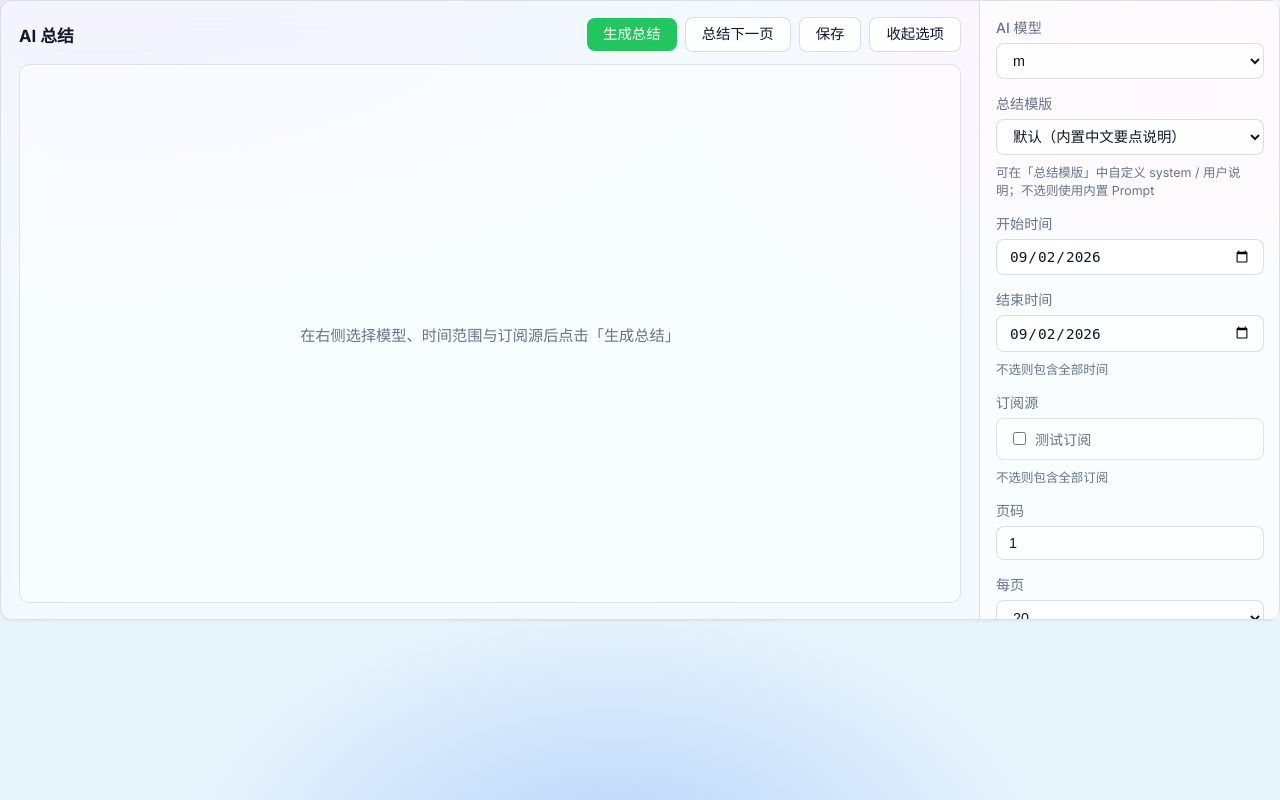
点击“总结下一页”会把页码 +1 并用新页码生成总结
Note: 等待“总结下一页”按钮出现（ai-summary tab 已激活）
Click the button "总结下一页". click: (738, 35)
box: [685,17,791,52]
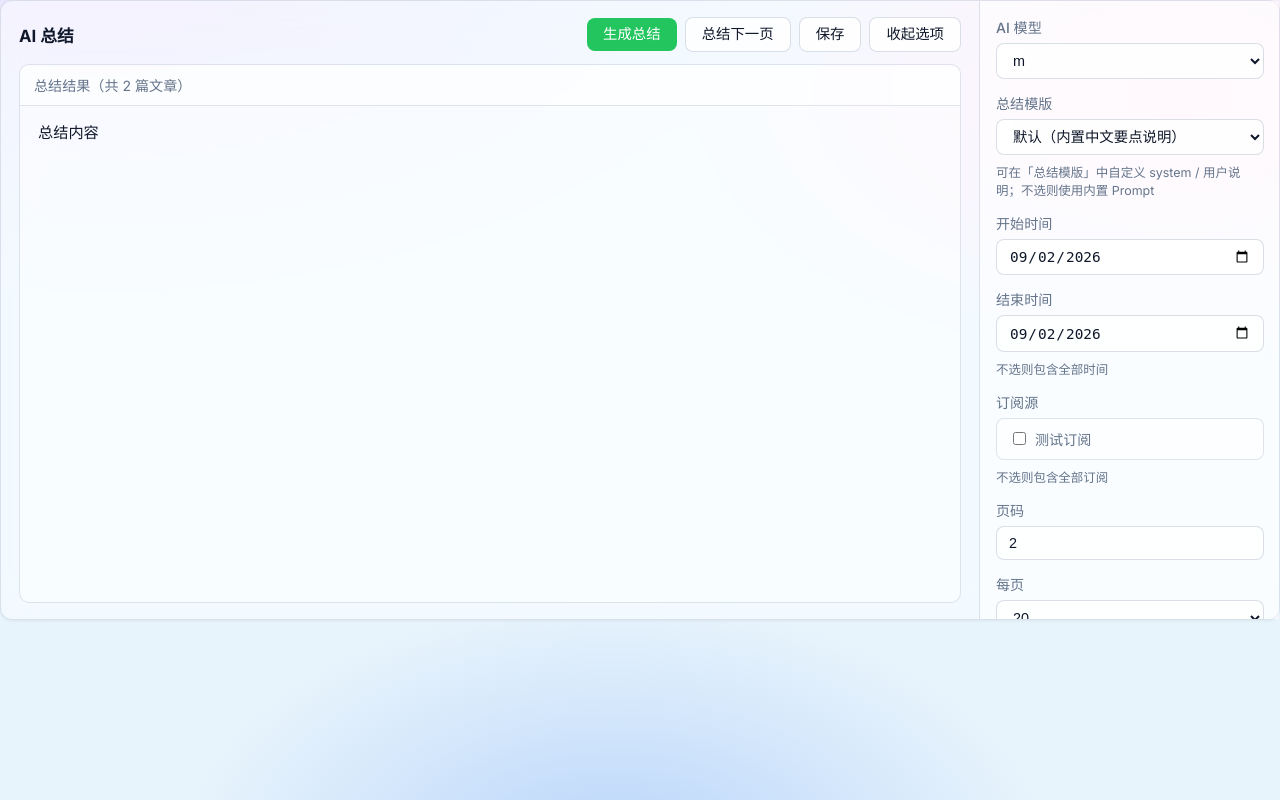
Check: the number field labelled "页码" holds "2", box [996,526,1264,560]
